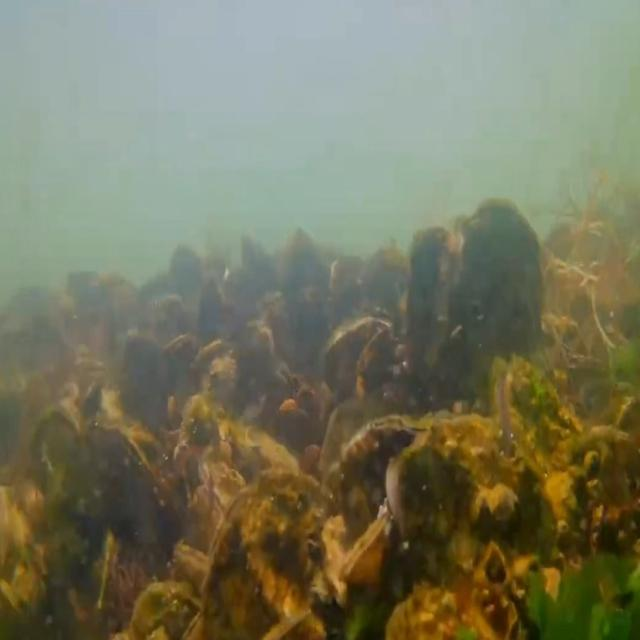Oyster-Closed: (322, 410, 449, 640), (83, 423, 191, 640), (562, 424, 640, 640), (340, 509, 392, 584), (173, 534, 211, 594)
Oyster-Indeterminate: (385, 416, 560, 640), (13, 402, 119, 640), (202, 470, 339, 640), (458, 200, 546, 420), (407, 226, 465, 400)
Oyster-Open: (486, 353, 586, 640), (323, 313, 393, 405)
